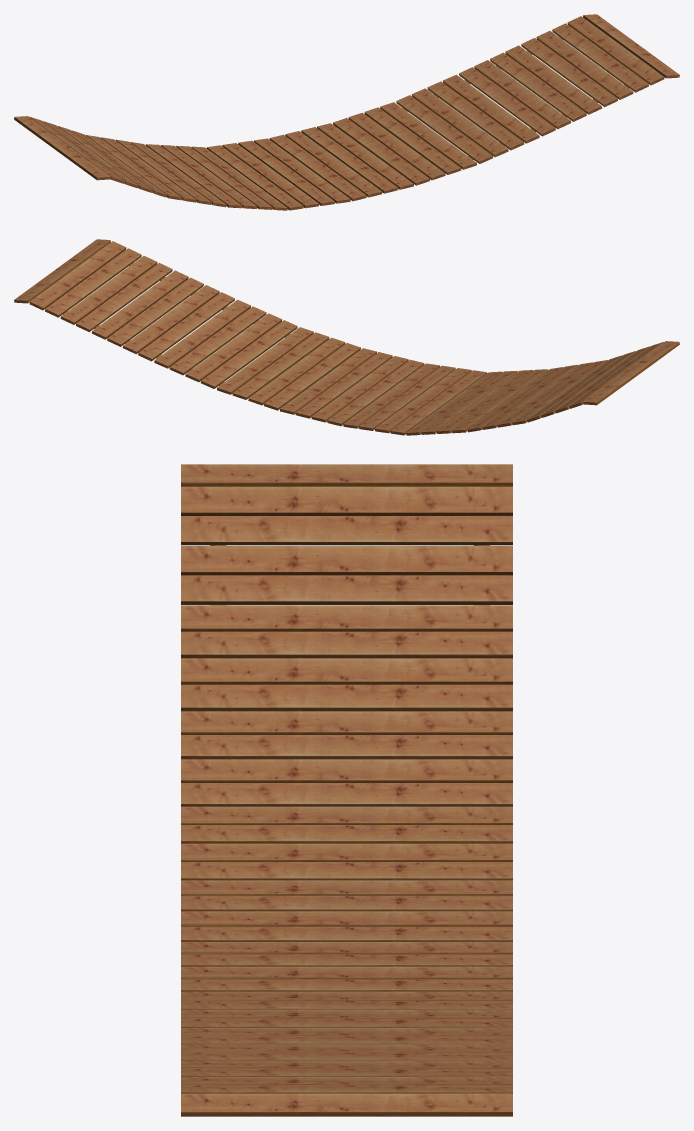
Rendered from bridge.fbx.
3 renders of one model, top to bottom at view 1: azimuth 30°, elevation 25°; view 2: azimuth 150°, elevation 25°; view 3: azimuth 270°, elevation 25°, orthographic. The views are drawn at different scales.
Visible parts, largest first — view 1: Plank50mm3m_1; view 2: Plank50mm3m_1; view 3: Plank50mm3m_1.
Boxes of the visible parts, x1,y1,x2,y2 form: Plank50mm3m_1: (14, 14, 679, 210); Plank50mm3m_1: (14, 239, 679, 435); Plank50mm3m_1: (181, 464, 512, 1116).
Size of the model in its own units: 2897 by 415 by 714.
